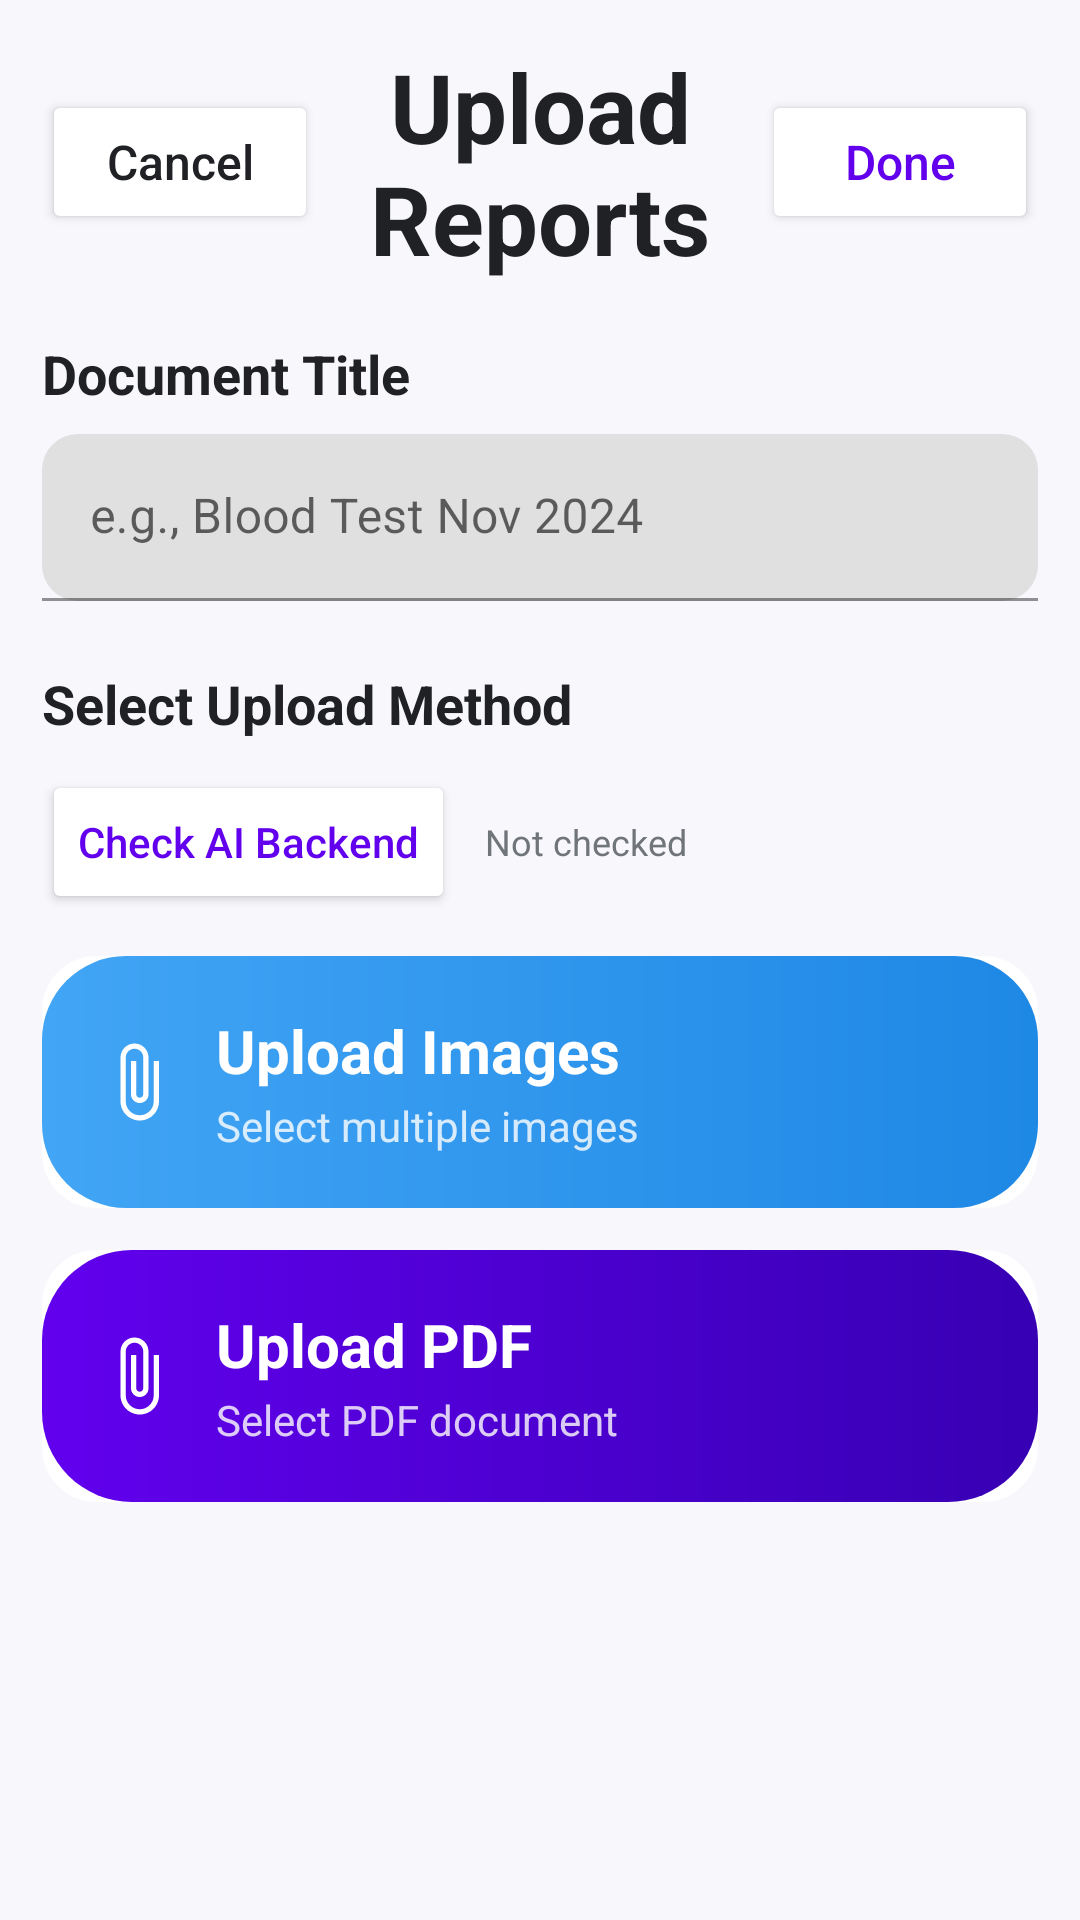

Locate icon controls on the screen. Image size 1080w x 1920h, boxes as (x1, y1, x2, y2).
attachment: (120, 1043, 159, 1121), (120, 1337, 159, 1415)
